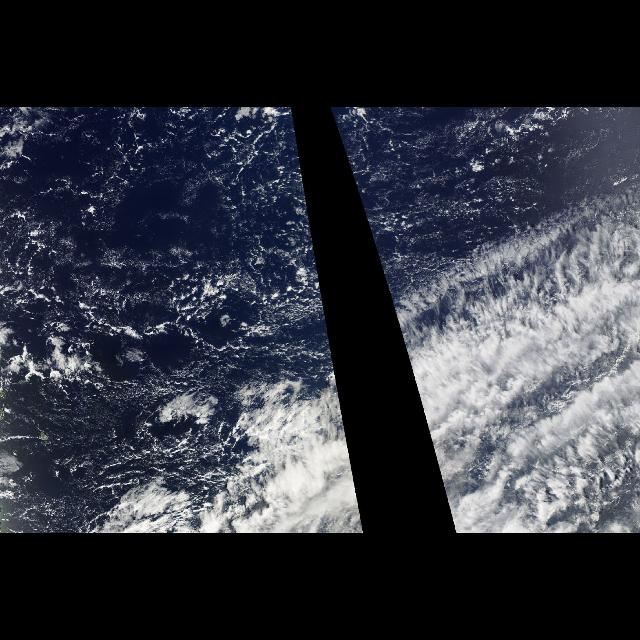Gravel: (35, 259, 308, 363)
